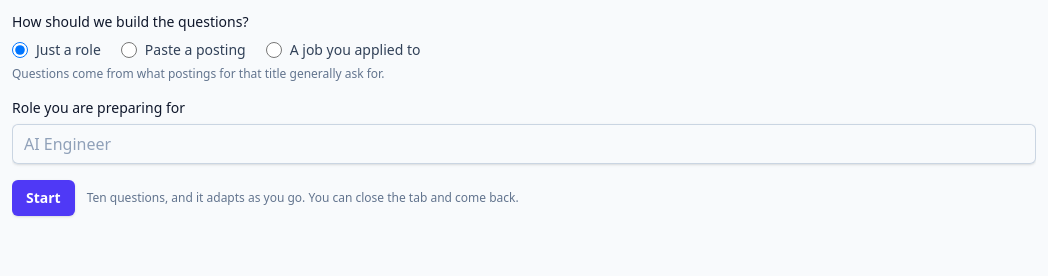
it: StartInterview › picking a job you applied to › offers only jobs you actually applied to
Click the radio button labelled "A job you applied to". click: (274, 50)
box: [266,42,282,58]
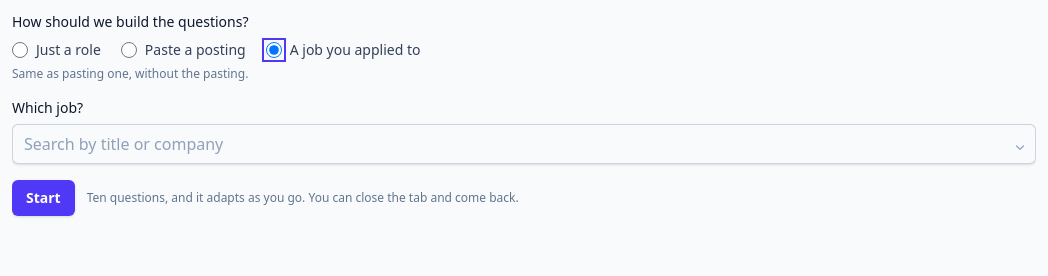
Click the dropdown labelled "Which job?". click: (524, 144)
box: [12,124,1036,164]
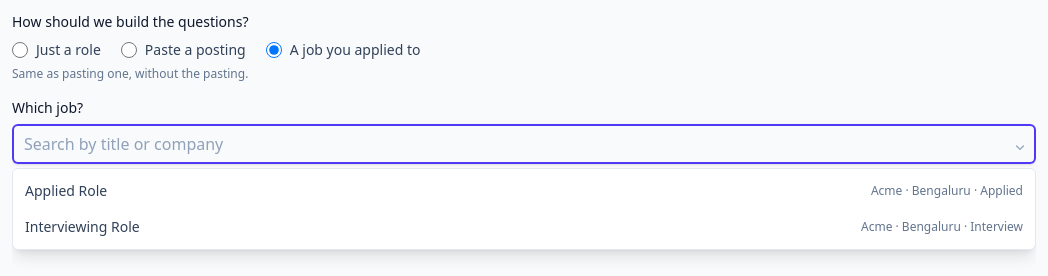
expect the text "Applied Role" is shown: met, box [25,181,107,201]
expect the text "Interviewing Role" is shown: met, box [25,217,140,237]
